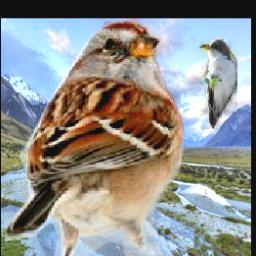Cuckoo: (200, 38, 238, 129)
Sparrow: (6, 18, 187, 256)
